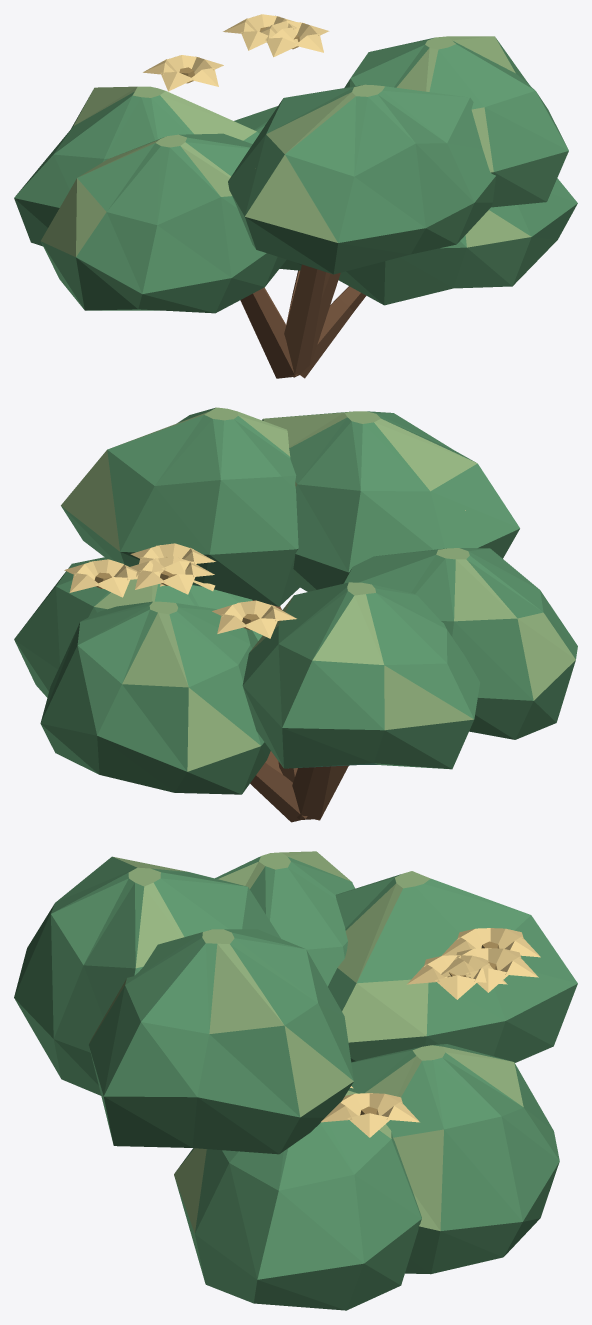
Rendered from flowering_shrub.glb.
The picture shows the model from 3 angles, top to bottom: view 1: azimuth 30°, elevation 25°; view 2: azimuth 150°, elevation 25°; view 3: azimuth 270°, elevation 25°; orthographic projection. The views are drawn at different scales.
Visible parts, largest first — view 1: flowering_shrub / mesh; view 2: flowering_shrub / mesh; view 3: flowering_shrub / mesh.
Boxes of the visible parts, <box> form: flowering_shrub / mesh: <box>14,14,577,378</box>; flowering_shrub / mesh: <box>14,407,577,822</box>; flowering_shrub / mesh: <box>14,851,577,1310</box>.
Bounding box in the file's own units: 2.64 × 1.67 × 2.12.
